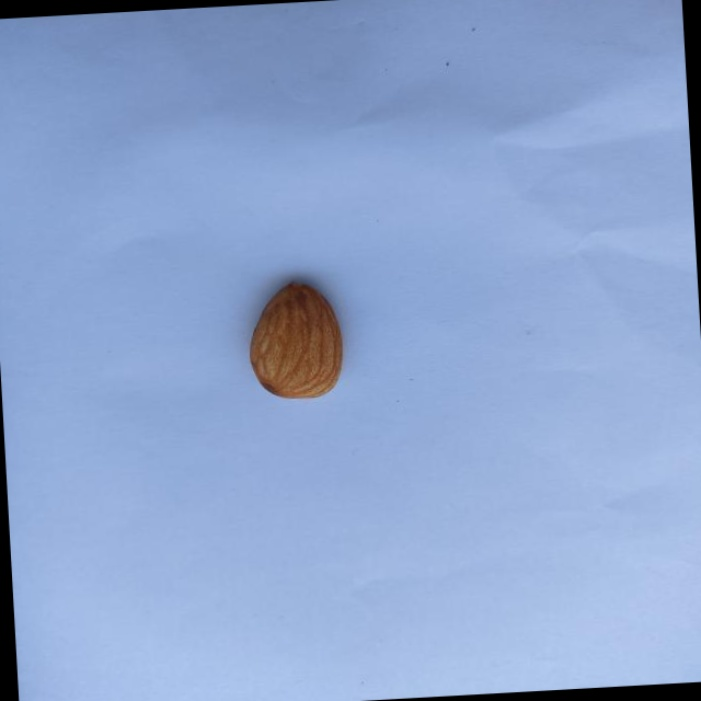grade1: (239, 270, 357, 409)
